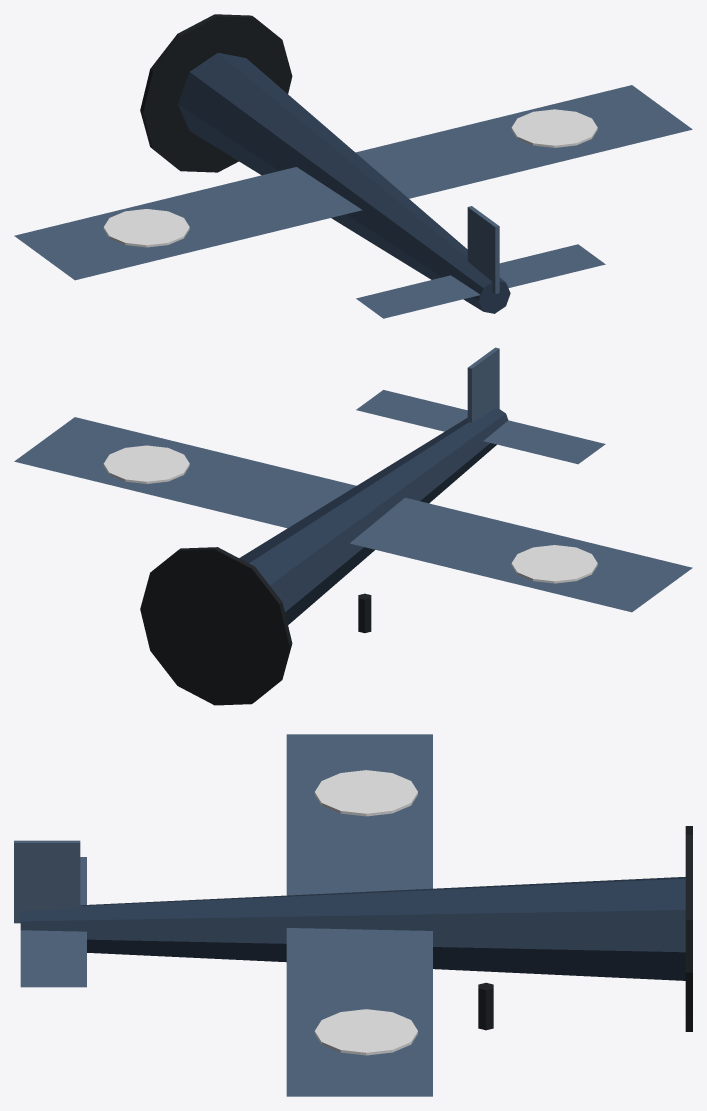
File: plane_us_fighter.glb
3 renders of one model, top to bottom at view 1: azimuth 30°, elevation 25°; view 2: azimuth 150°, elevation 25°; view 3: azimuth 270°, elevation 25°, orthographic. The views are drawn at different scales.
Parts seen in each view (by area): view 1: Hull; view 2: Hull; view 3: Hull.
Boxes of the visible parts, x1,y1,x2,y2 form: Hull: (14,14,692,318); Hull: (14,347,692,705); Hull: (14,734,692,1096).
Size of the model in its own units: 11.6 by 2.8 by 9.19.
